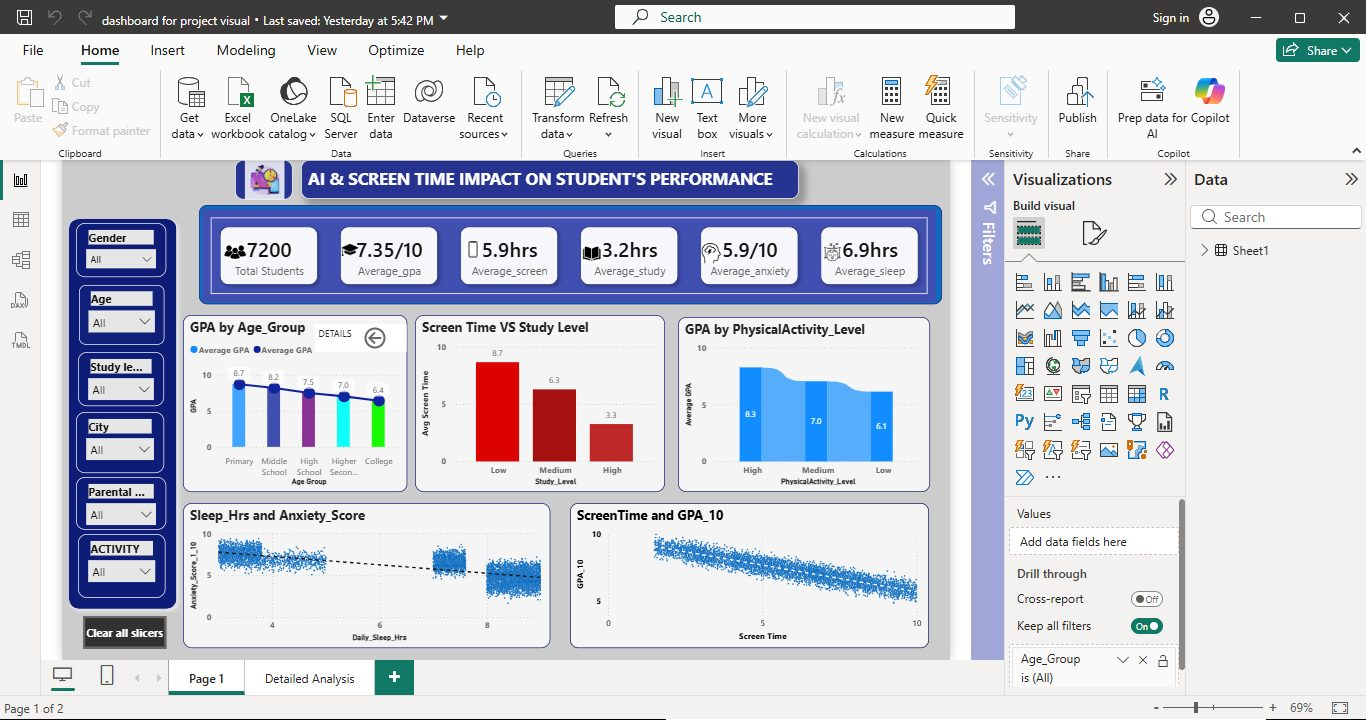

The dashboard page shown, as its layout file describes it:
{"tool":"powerbi","page":{"name":"Page 1","canvas":[1280,720],"ordinal":0},"visuals":[{"type":"textbox","box":[344.2,0,717.1,56.2],"z":0},{"type":"shape","box":[0,75.6,174.7,581.2],"z":1000},{"type":"textbox","box":[249.3,0,82.6,56.5],"z":2000},{"type":"image","box":[171,0,240.6,56.5],"z":3000},{"type":"slicer","fields":{"Values":["Sheet1.Gender"]},"box":[20.5,90.7,130.2,77.6],"z":4000},{"type":"slicer","fields":{"Values":["Sheet1.Age_Group"]},"box":[24.9,180,122.9,86.3],"z":5000},{"type":"slicer","fields":{"Values":["Sheet1.Study_Level"]},"box":[23.4,276.6,124.4,77.6],"z":6000},{"type":"slicer","fields":{"Values":["Sheet1.City"]},"box":[20.5,362.9,127.3,87.8],"z":7000},{"type":"slicer","fields":{"Values":["Sheet1.Parental_Control"]},"box":[20.5,456.6,130.2,76.1],"z":8000},{"type":"slicer","fields":{"Values":["Sheet1.PhysicalActivity_Level"]},"box":[23.4,538.5,125.9,92.2],"z":9000},{"type":"cardVisual","fields":{"Data":["Sheet1.Total Students","Sheet1.average_gpa","Sheet1.average_screen","Sheet1.average_study","Sheet1.average_anxiety","Sheet1.average_sleep"]},"box":[197.1,65.2,1069.6,143.5],"z":10000},{"type":"image","box":[233.3,115.9,31.9,31.9],"z":11000},{"type":"image","box":[401.4,107.2,26.1,44.9],"z":12000},{"type":"image","box":[578.3,110.1,26.1,37.7],"z":13000},{"type":"image","box":[920.3,115.9,29,34.8],"z":14000},{"type":"image","box":[749.3,120.3,27.5,27.5],"z":15000},{"type":"image","box":[1094.2,115.9,30.4,31.9],"z":16000},{"type":"lineClusteredColumnComboChart","title":" GPA by Age_Group","fields":{"Category":["Sheet1.Age_Group"],"Y":["Sheet1.Average GPA"],"Y2":["Sheet1.Average GPA"]},"box":[174.2,223.2,322.6,254.9],"z":17000},{"type":"clusteredColumnChart","title":" Screen Time VS Study Level","fields":{"Category":["Sheet1.Study_Level"],"Y":["Sheet1.Avg Screen Time"]},"box":[508.3,223.2,360,254.9],"z":18000},{"type":"scatterChart","title":"ScreenTime and GPA_10","fields":{"X":["Sheet1.Daily_ScreenTime_Total_Hrs"],"Y":["Sheet1.GPA_10"]},"box":[731.9,494.2,517.4,208.7],"z":19000},{"type":"ribbonChart","title":"GPA by PhysicalActivity_Level","fields":{"Category":["Sheet1.PhysicalActivity_Level"],"Y":["Sheet1.Average GPA"]},"box":[887,226.1,362.9,252],"z":20000},{"type":"scatterChart","title":"Sleep_Hrs and Anxiety_Score","fields":{"X":["Sheet1.Daily_Sleep_Hrs"],"Y":["Sheet1.Anxiety_Score_1_10"]},"box":[173.9,494.2,529,208.7],"z":21000},{"type":"actionButton","box":[30.7,657.1,120,46.8],"z":22000},{"type":"textbox","box":[364.3,236.2,132.5,40.3],"z":23000},{"type":"actionButton","box":[430.6,236.2,99.4,40.3],"z":24000}]}

Visuals, with their boxes on the page's 1280x720 design canvas (x1, y1, x2, y2). These are canvas units, not pixel positions in the 1366x720 screenshot, which may show the page scaled, cropped or inside an application window:
textbox: box=[344, 0, 1061, 56]
shape: box=[0, 76, 175, 657]
textbox: box=[249, 0, 332, 56]
image: box=[171, 0, 412, 56]
slicer - Sheet1.Gender: box=[20, 91, 151, 168]
slicer - Sheet1.Age_Group: box=[25, 180, 148, 266]
slicer - Sheet1.Study_Level: box=[23, 277, 148, 354]
slicer - Sheet1.City: box=[20, 363, 148, 451]
slicer - Sheet1.Parental_Control: box=[20, 457, 151, 533]
slicer - Sheet1.PhysicalActivity_Level: box=[23, 538, 149, 631]
cardVisual - Sheet1.Total Students x Sheet1.average_gpa: box=[197, 65, 1267, 209]
image: box=[233, 116, 265, 148]
image: box=[401, 107, 428, 152]
image: box=[578, 110, 604, 148]
image: box=[920, 116, 949, 151]
image: box=[749, 120, 777, 148]
image: box=[1094, 116, 1125, 148]
" GPA by Age_Group" lineClusteredColumnComboChart: box=[174, 223, 497, 478]
" Screen Time VS Study Level" clusteredColumnChart: box=[508, 223, 868, 478]
"ScreenTime and GPA_10" scatterChart: box=[732, 494, 1249, 703]
"GPA by PhysicalActivity_Level" ribbonChart: box=[887, 226, 1250, 478]
"Sleep_Hrs and Anxiety_Score" scatterChart: box=[174, 494, 703, 703]
actionButton: box=[31, 657, 151, 704]
textbox: box=[364, 236, 497, 276]
actionButton: box=[431, 236, 530, 276]
